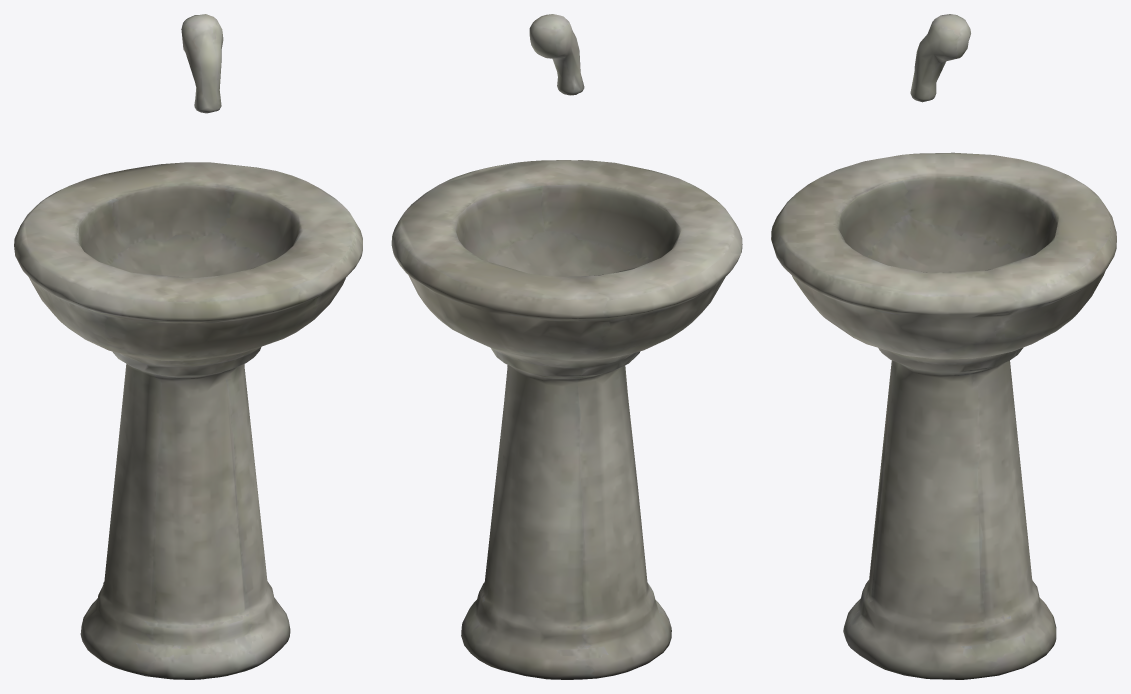
File: ancient-white-painted-washbasin-v002.glb
3 views of the same model, side by side, from view 1: azimuth 30°, elevation 25°; view 2: azimuth 150°, elevation 25°; view 3: azimuth 270°, elevation 25° (orthographic).
Parts seen in each view (by area): view 1: ancient-white-painted-washbasin; view 2: ancient-white-painted-washbasin; view 3: ancient-white-painted-washbasin.
Part boxes in pixels (bbox=[...]): ancient-white-painted-washbasin: bbox=[14, 14, 362, 679]; ancient-white-painted-washbasin: bbox=[391, 14, 742, 679]; ancient-white-painted-washbasin: bbox=[771, 14, 1116, 679].
Size of the model in its own units: 0.4595 by 0.8993 by 0.449.
1 material, 1 textured.
